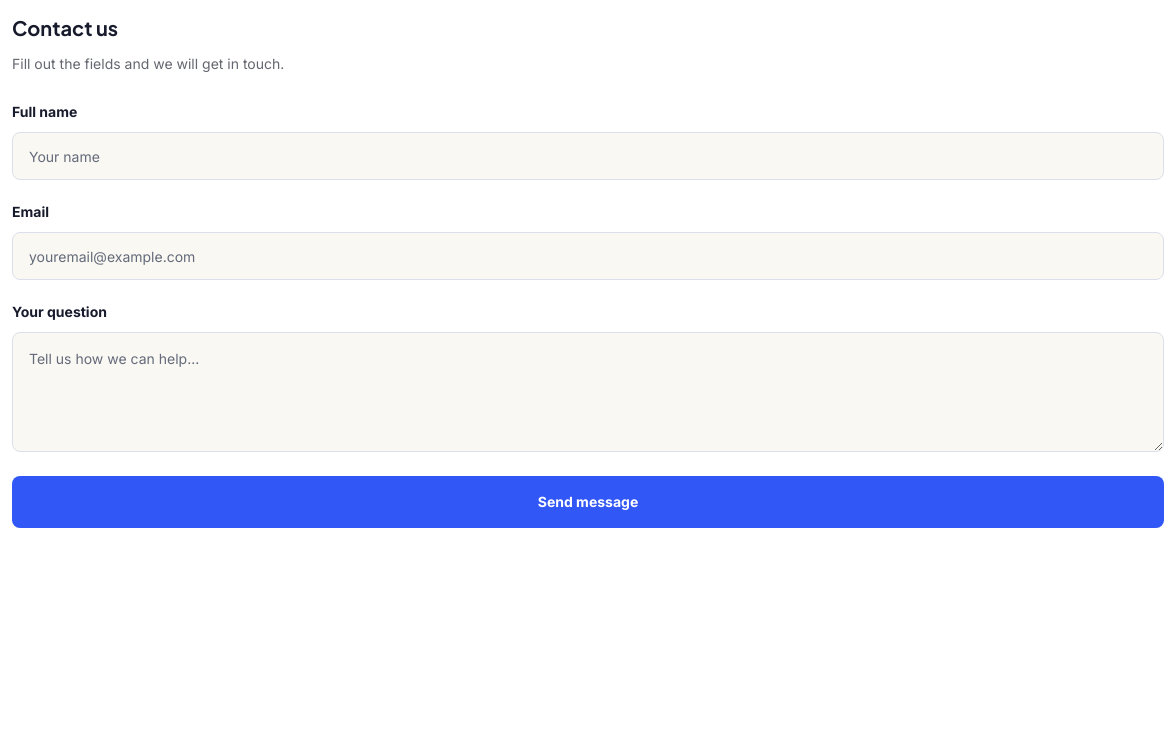
Test: an invalid email shows its error on blur and clears live once corrected
Type "maya@" into the field labelled "Email".
click(588, 256); type("maya@")  # box [12, 232, 1164, 280]
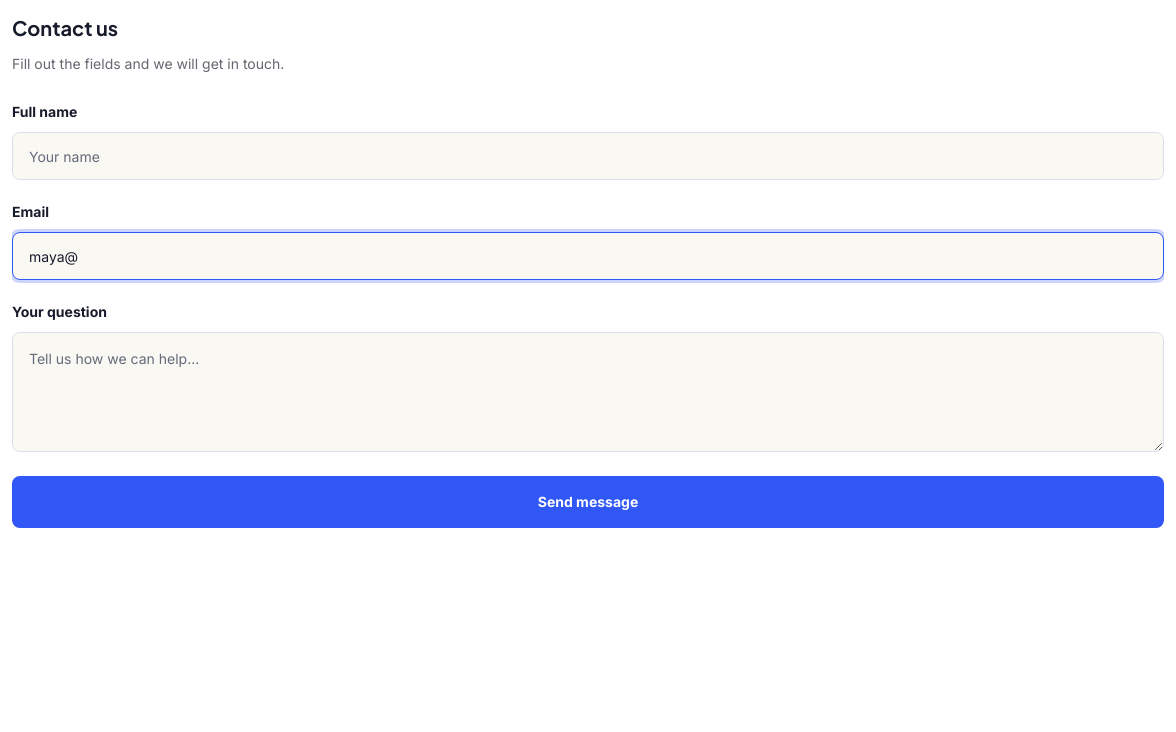
Press Tab
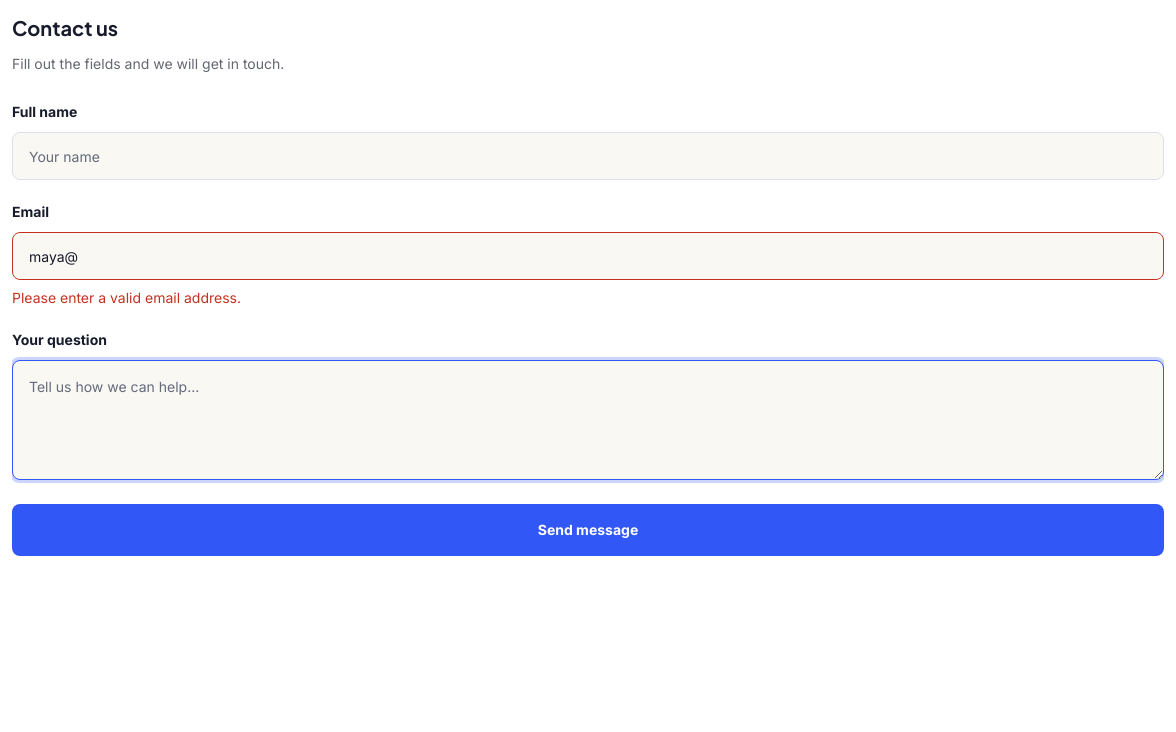
Type "example.com" into the field labelled "Email".
click(588, 256); type("example.com")  # box [12, 232, 1164, 280]
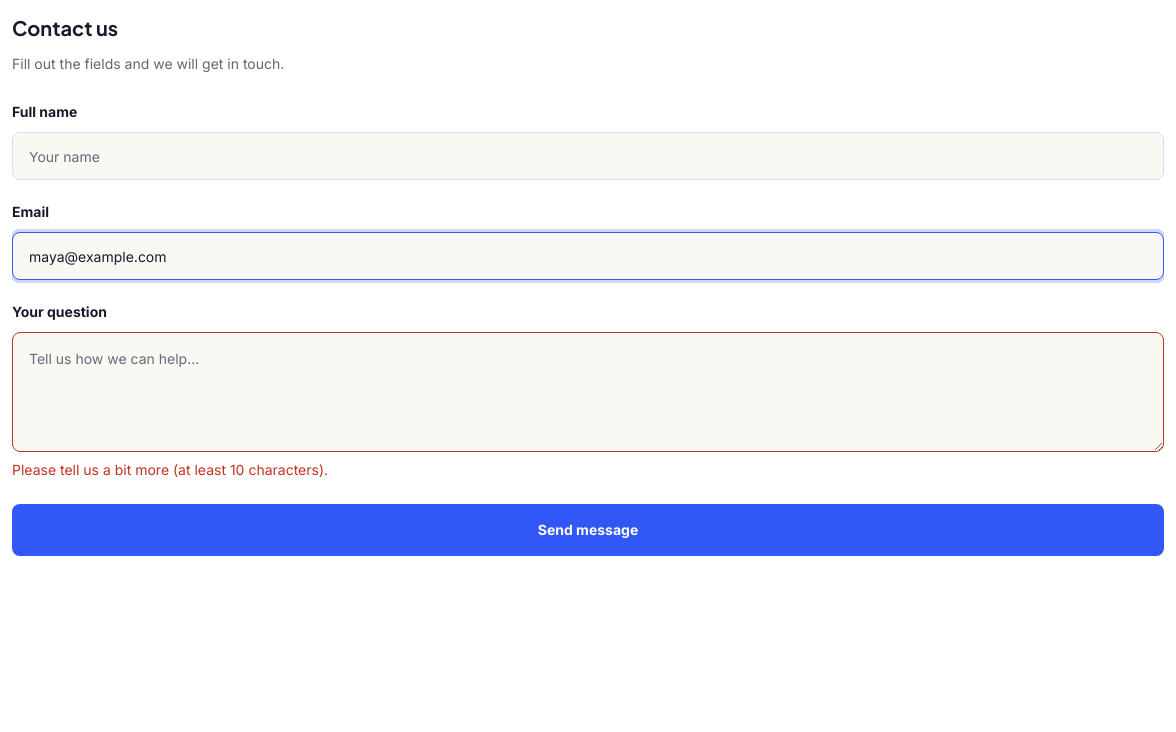
Check: the text "Please enter a valid email address." is gone
